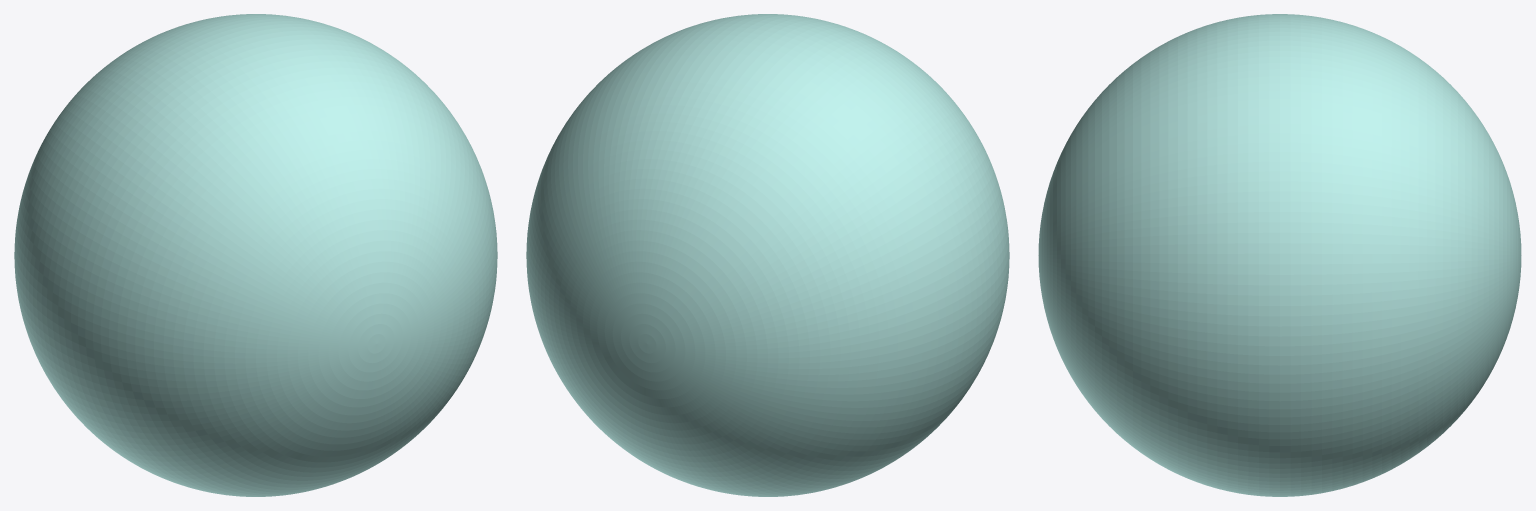
The model's file is EEZYbotARM_Mk2_robot_base_vis_19.dae.
3 views of the same model, side by side, from view 1: azimuth 30°, elevation 25°; view 2: azimuth 150°, elevation 25°; view 3: azimuth 270°, elevation 25° (orthographic).
Parts seen in each view (by area): view 1: node; view 2: node; view 3: node.
Boxes of the visible parts, box(x1,y1,x2,y2) form: node: box(14, 14, 497, 496); node: box(526, 14, 1009, 496); node: box(1038, 14, 1521, 496).
Size of the model in its own units: 0.006 by 0.006 by 0.006.
